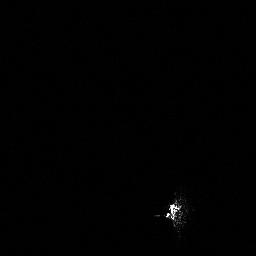ship: (156, 194, 189, 232)
